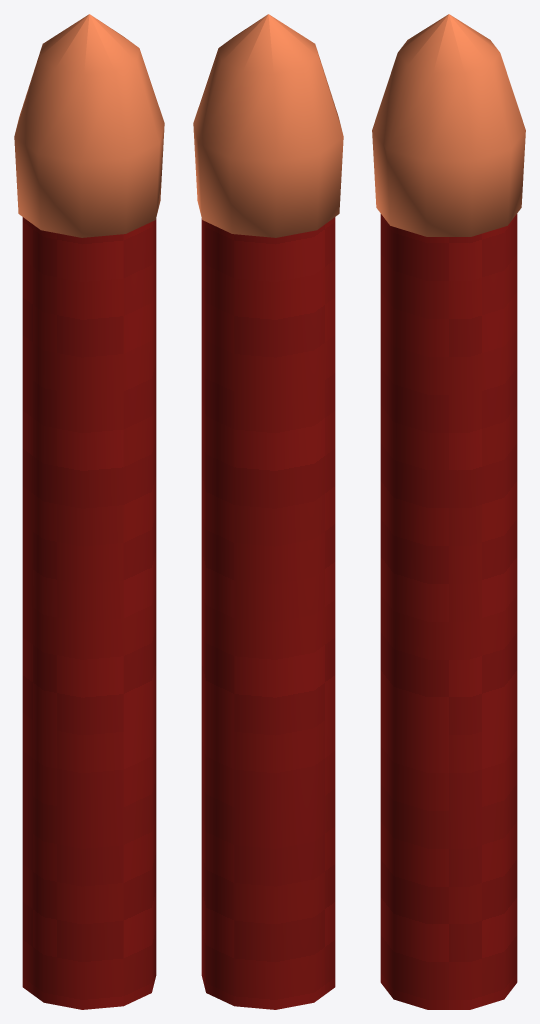
Rendered from flare_l0.gltf.
The picture shows the model from 3 angles, left to right: view 1: azimuth 30°, elevation 25°; view 2: azimuth 150°, elevation 25°; view 3: azimuth 270°, elevation 25°; orthographic projection.
Visible parts, largest first — view 1: flare_l0; view 2: flare_l0; view 3: flare_l0.
Part boxes in pixels (x1,y1,x2,y2): flare_l0: (14, 14, 164, 1009); flare_l0: (193, 14, 343, 1009); flare_l0: (372, 14, 525, 1009).
Size of the model in its own units: 0.0342 by 0.25 by 0.036.
Materials: 2 (2 with a texture image).
